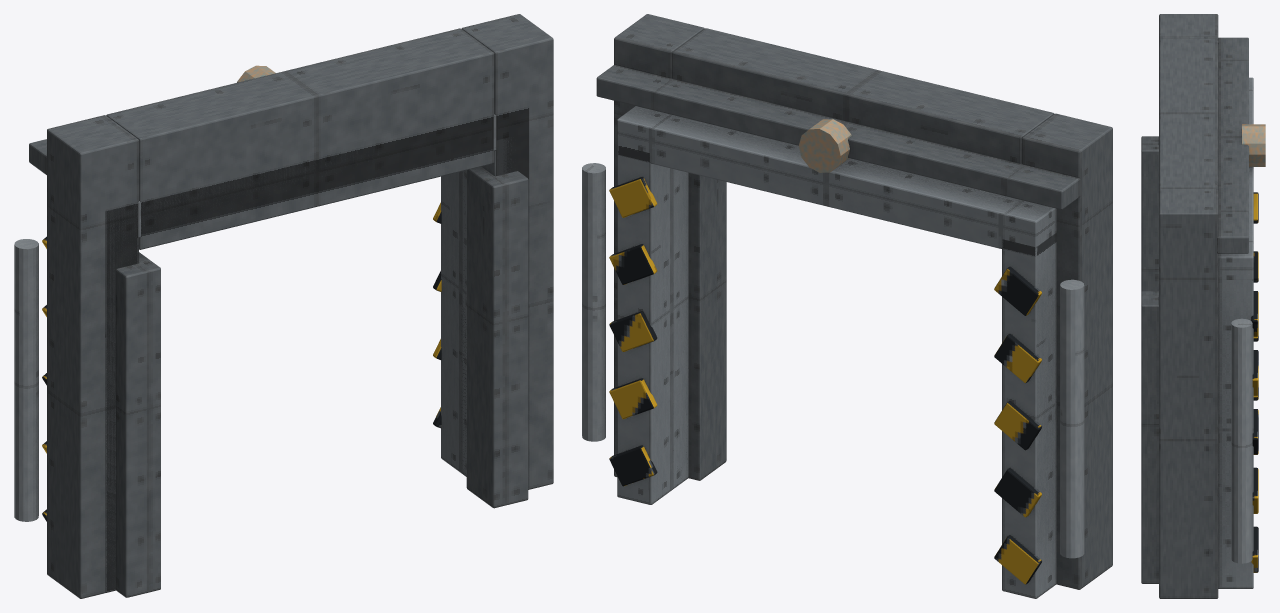
The model's file is base_wall_door.glb.
The picture shows the model from 3 angles, left to right: view 1: azimuth 30°, elevation 25°; view 2: azimuth 150°, elevation 25°; view 3: azimuth 270°, elevation 25°; orthographic projection. The views are drawn at different scales.
Parts seen in each view (by area): view 1: base_wall_door.004; view 2: base_wall_door.004; view 3: base_wall_door.004.
Part boxes in pixels (left/top/right/bottom): base_wall_door.004: left=14, top=14, right=553, bottom=598; base_wall_door.004: left=582, top=14, right=1112, bottom=598; base_wall_door.004: left=1141, top=14, right=1265, bottom=598.
Bounding box in the file's own units: 4.28 × 3.6 × 1.05.
Materials: 4 (4 with a texture image).
